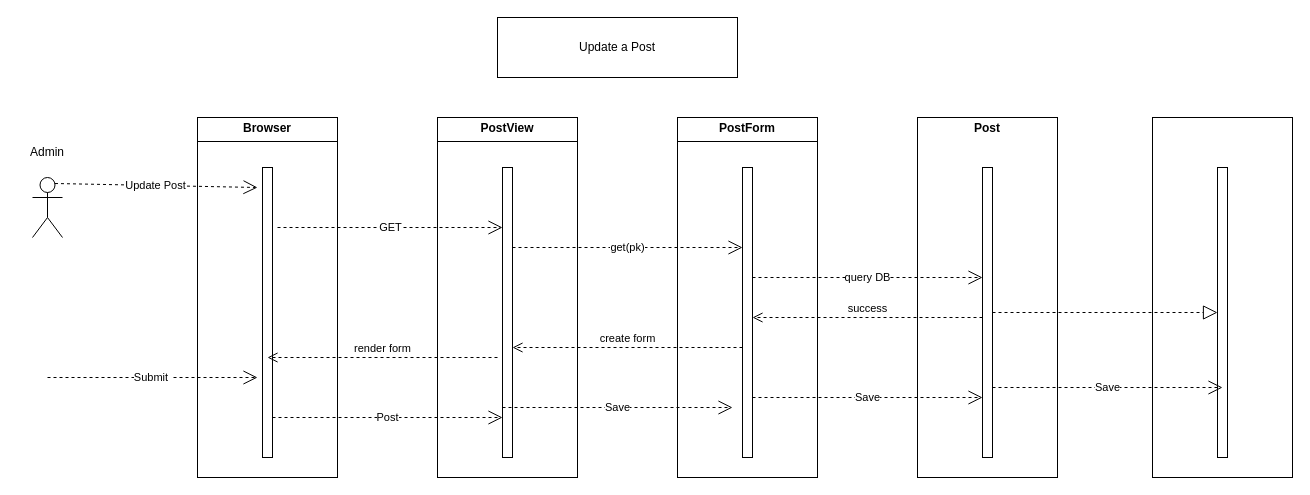
Some shapes in this 1310 by 495 pixel diagram are drawn without their labels. The shapes that lost their labels are listed below. From the top down, each one's box as (x1, y1, x2, y2) in pixels, then its label:
(32, 176, 62, 238): Actor
(1152, 116, 1292, 478): Database
